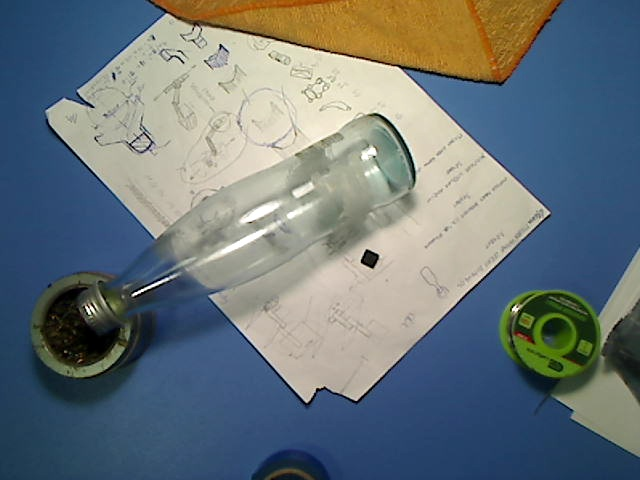bottle: (73, 113, 417, 338)
